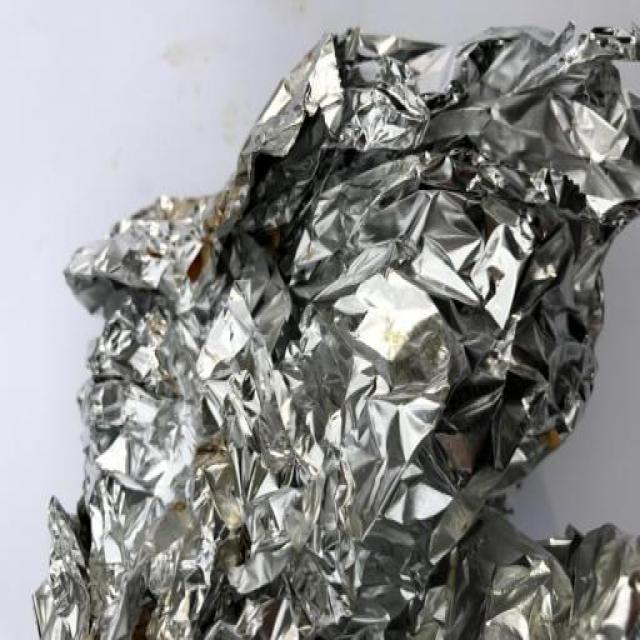others: (10, 26, 640, 633)
